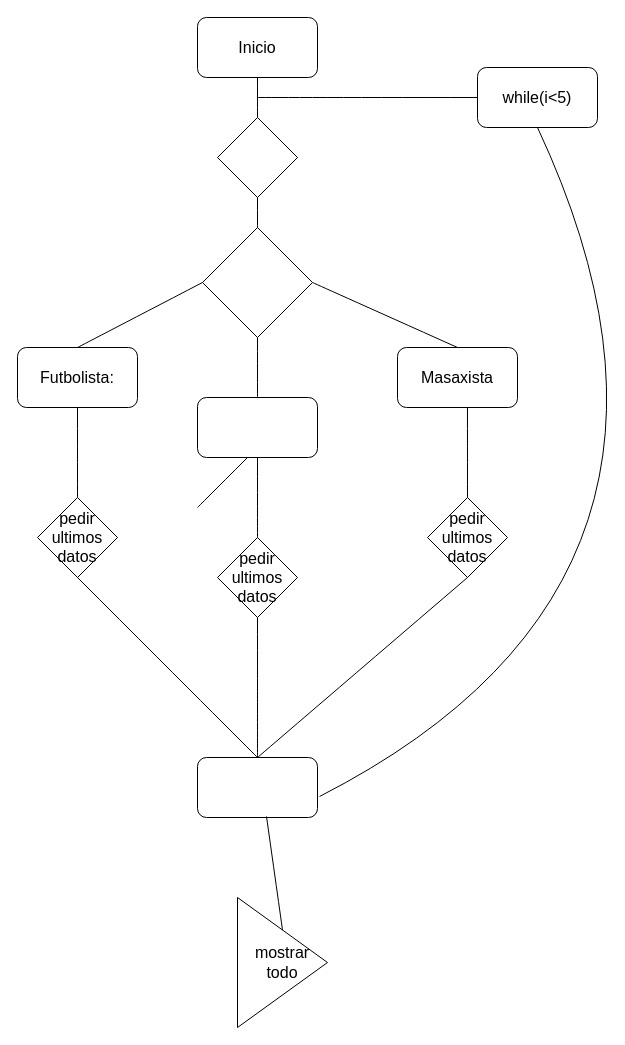
Image size: 625x1045. Some labels were removed from this diagram. Each missing label, with the centre of its shape:
"Entrenador" belongs at [257,427].
"incramentar I" belongs at [257,787].
"pedir datos" belongs at [257,157].
"switch: indicar puesto" belongs at [257,282].
